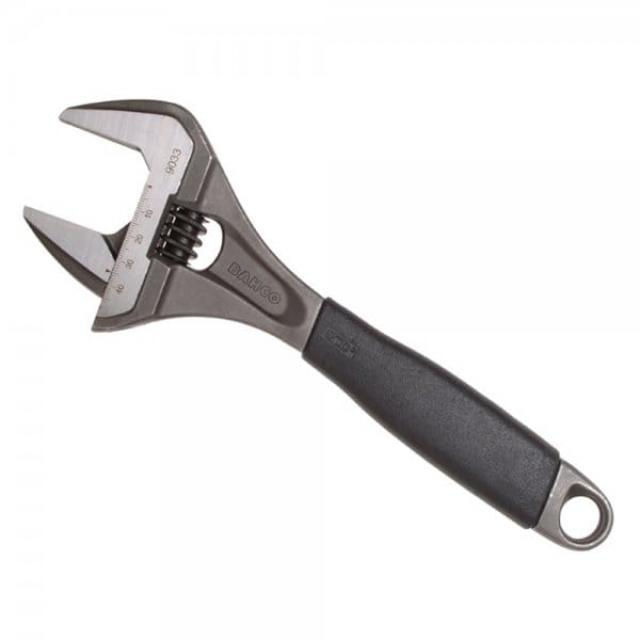wrench: (19, 92, 620, 557)
